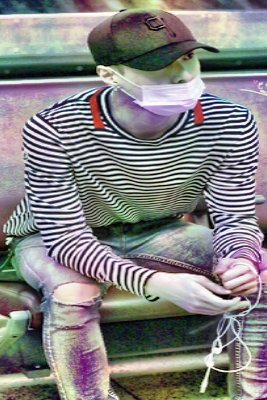mask_weared_incorrect: (123, 52, 201, 115)
